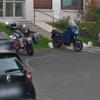Motorcycle: (7, 18, 47, 61)
